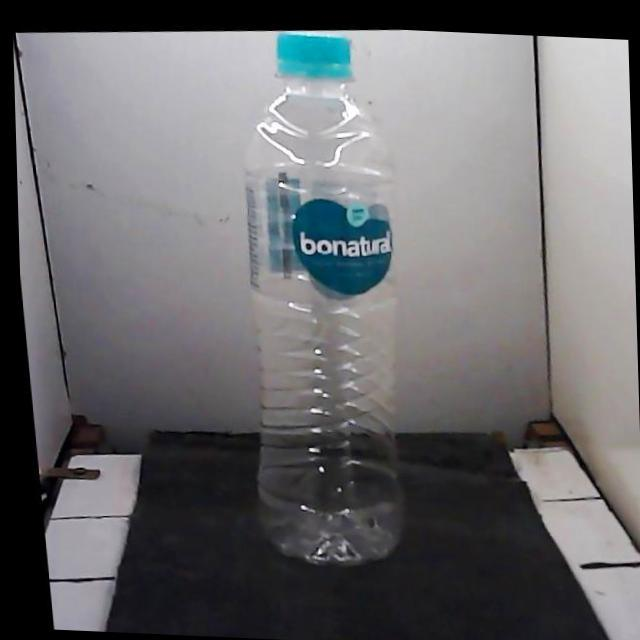plastico: (247, 32, 402, 565)
